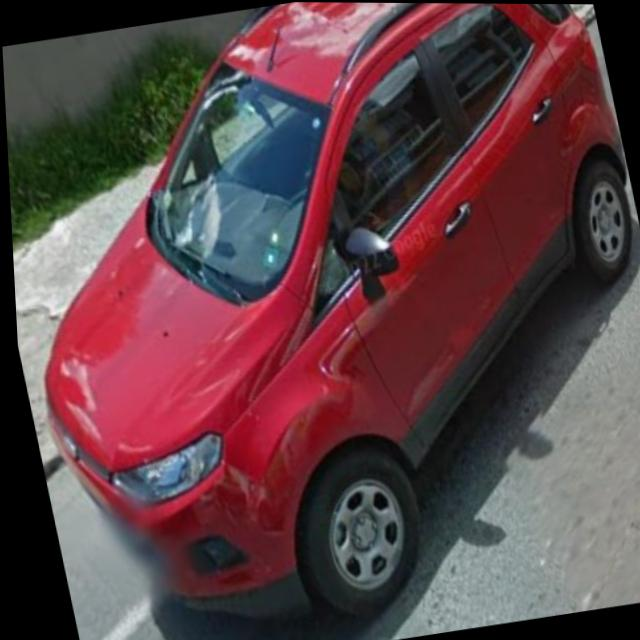vehicle: (0, 0, 640, 637)
